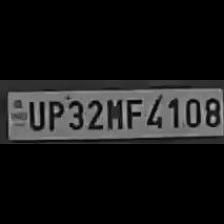0: (182, 95, 200, 127)
1: (164, 94, 181, 128)
2: (84, 96, 104, 130)
3: (64, 97, 84, 130)
4: (143, 94, 165, 130)
8: (202, 95, 222, 127)
F: (122, 95, 142, 129)
M: (105, 95, 123, 129)
P: (45, 97, 63, 131)
U: (26, 98, 44, 130)
